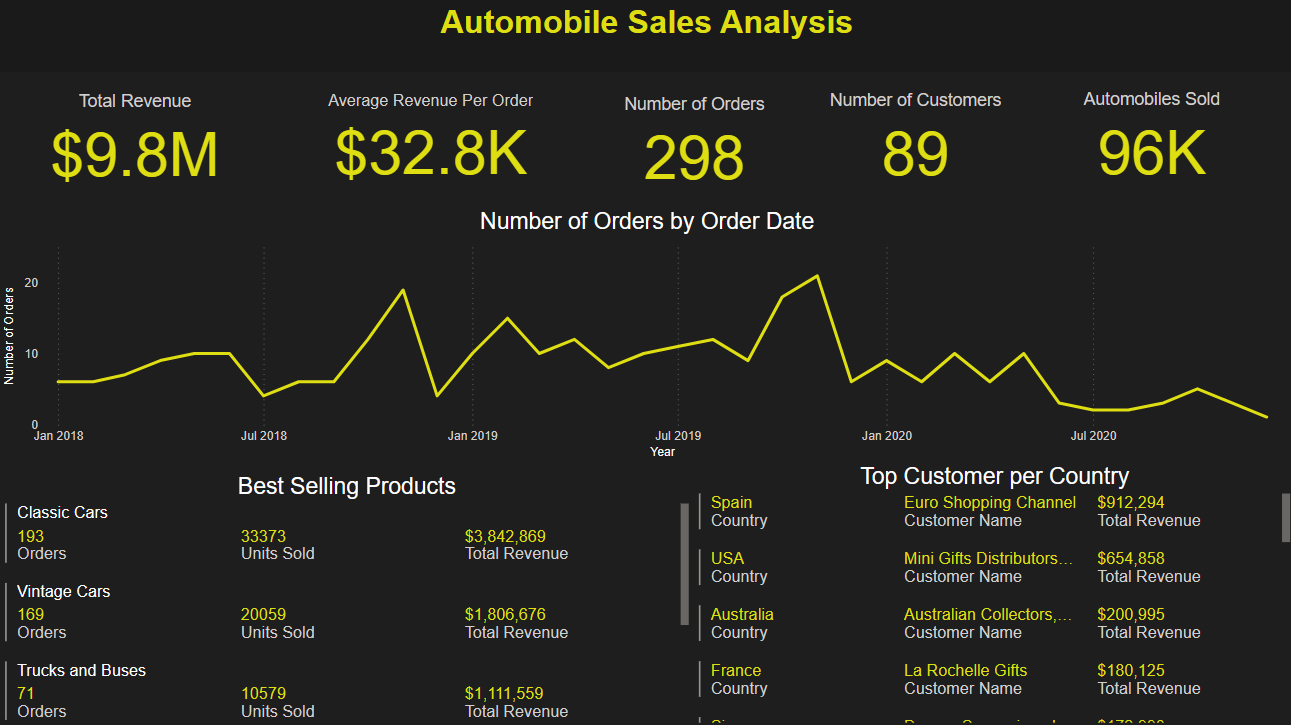

Layout of this report page (visuals, bound fields, positions):
{"tool":"powerbi","page":{"name":"Main","canvas":[1280,720],"ordinal":0},"visuals":[{"type":"textbox","box":[0,0,1279.8,72.4],"z":0},{"type":"cardVisual","fields":{"Data":["Sum(Auto Sales data.SALES)"]},"box":[1.2,73.1,266.3,132.5],"z":0,"group":"g1"},{"type":"cardVisual","fields":{"Data":["Auto Sales data.Average_Sales_per_Order"]},"box":[307.4,73.8,238,131.3],"z":1000,"group":"g1"},{"type":"lineChart","title":"Number of Orders by Order Date","fields":{"Y":["Count(Auto Sales data.ORDERNUMBER)"],"Category":["Auto Sales data.ORDERDATE.Variation.Date Hierarchy.Year","Auto Sales data.ORDERDATE.Variation.Date Hierarchy.Month"]},"box":[0,205.8,1280.3,252.5],"z":1000},{"type":"group","id":"g1","title":"Group 1","box":[1.2,72.4,1267.5,132.5],"z":2000},{"type":"cardVisual","fields":{"Data":["Count(Auto Sales data.ORDERNUMBER)"]},"box":[574.9,77.3,223.3,123.9],"z":3000,"group":"g1"},{"type":"multiRowCard","title":"Best Selling Products","fields":{"Values":["Auto Sales data.PRODUCTLINE","Count(Auto Sales data.ORDERNUMBER)","Sum(Auto Sales data.QUANTITYORDERED)","Sum(Auto Sales data.SALES)"]},"box":[1.4,467.9,684.7,252.5],"z":3000},{"type":"multiRowCard","title":"Top Customer per Country","fields":{"Values":["Auto Sales data.COUNTRY","Auto Sales data.Top Customer by Sales","Auto Sales data.Top Customer Sales for Every Country"]},"box":[685.8,457.9,594.2,262.1],"z":4000},{"type":"cardVisual","fields":{"Data":["Count(Auto Sales data.CUSTOMERNAME)"]},"box":[800.6,73.6,208.6,130.1],"z":6000,"group":"g1"},{"type":"cardVisual","fields":{"Data":["Sum(Auto Sales data.QUANTITYORDERED)"]},"box":[1009.2,72.4,260.1,131.3],"z":7000,"group":"g1"}]}

Visuals, with their boxes in screenshot pixels (x1, y1, x2, y2), scaled from the page's 1280x720 canvas onto the 1291x725 screenshot:
textbox: locate(0, 0, 1290, 73)
cardVisual - Sum(Auto Sales data.SALES): locate(1, 74, 270, 207)
cardVisual - Auto Sales data.Average_Sales_per_Order: locate(310, 74, 550, 207)
"Number of Orders by Order Date" lineChart: locate(0, 207, 1290, 461)
"Group 1" group: locate(1, 73, 1280, 206)
cardVisual - Count(Auto Sales data.ORDERNUMBER): locate(580, 78, 805, 203)
"Best Selling Products" multiRowCard: locate(1, 471, 692, 724)
"Top Customer per Country" multiRowCard: locate(692, 461, 1290, 724)
cardVisual - Count(Auto Sales data.CUSTOMERNAME): locate(807, 74, 1018, 205)
cardVisual - Sum(Auto Sales data.QUANTITYORDERED): locate(1018, 73, 1280, 205)
